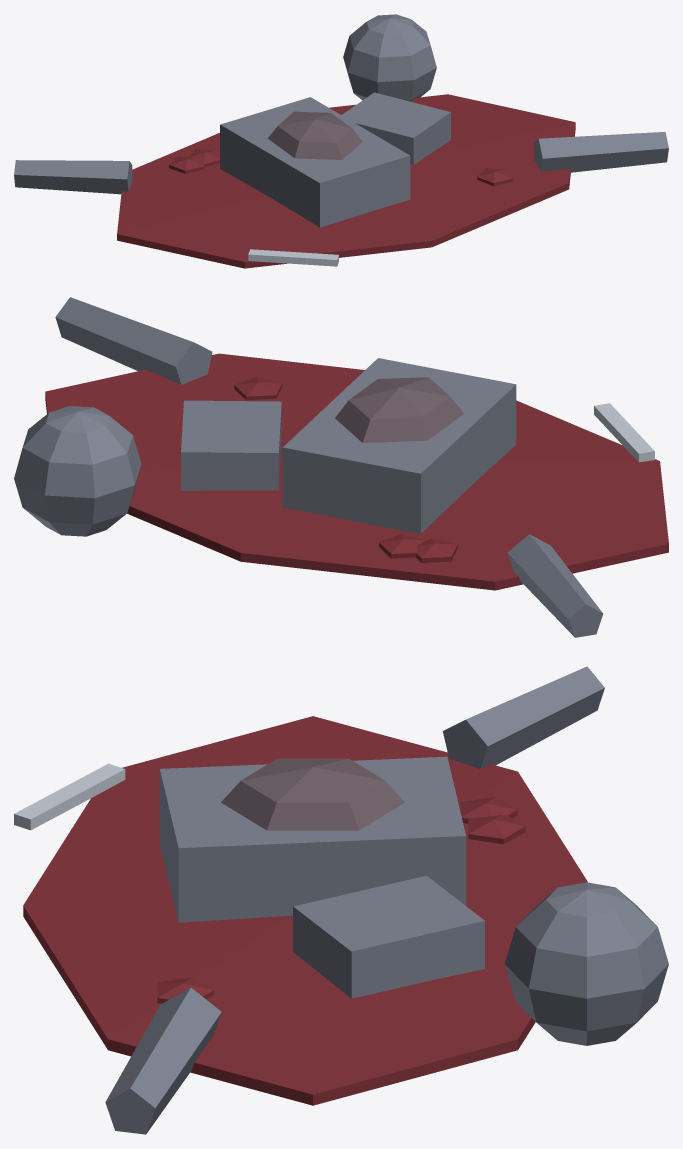
The model's file is corpse_2.glb.
The picture shows the model from 3 angles, top to bottom: view 1: azimuth 30°, elevation 25°; view 2: azimuth 150°, elevation 25°; view 3: azimuth 270°, elevation 25°; orthographic projection. The views are drawn at different scales.
Parts seen in each view (by area): view 1: corpse_2; view 2: corpse_2; view 3: corpse_2.
Boxes of the visible parts, x1,y1,x2,y2 form: corpse_2: (14, 14, 668, 268); corpse_2: (14, 297, 668, 637); corpse_2: (14, 666, 668, 1134).
Size of the model in its own units: 3.37 by 0.54 by 2.15.
